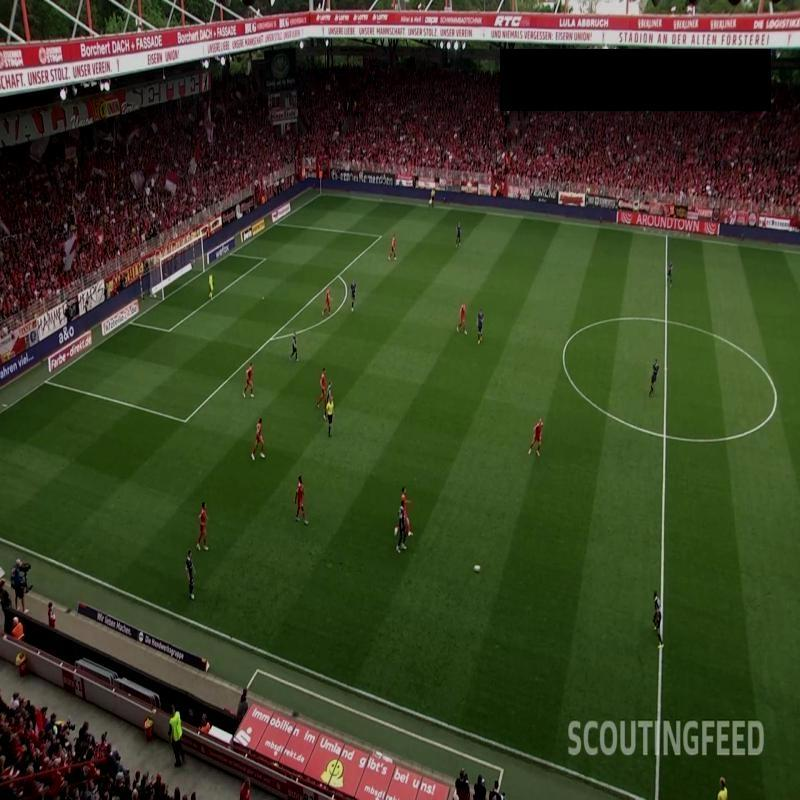1: (316, 186, 330, 200)
10: (332, 269, 345, 283)
11: (263, 332, 277, 346)
12: (178, 414, 192, 428)
13: (660, 228, 674, 242)
14: (660, 313, 674, 327)
15: (658, 427, 672, 441)
2: (268, 216, 282, 230)
3: (223, 247, 237, 260)
4: (123, 316, 137, 330)
5: (39, 374, 53, 388)
7: (258, 252, 272, 266)
8: (162, 323, 176, 337)
9: (375, 228, 389, 242)
c: (765, 388, 787, 406), (556, 347, 570, 361)
